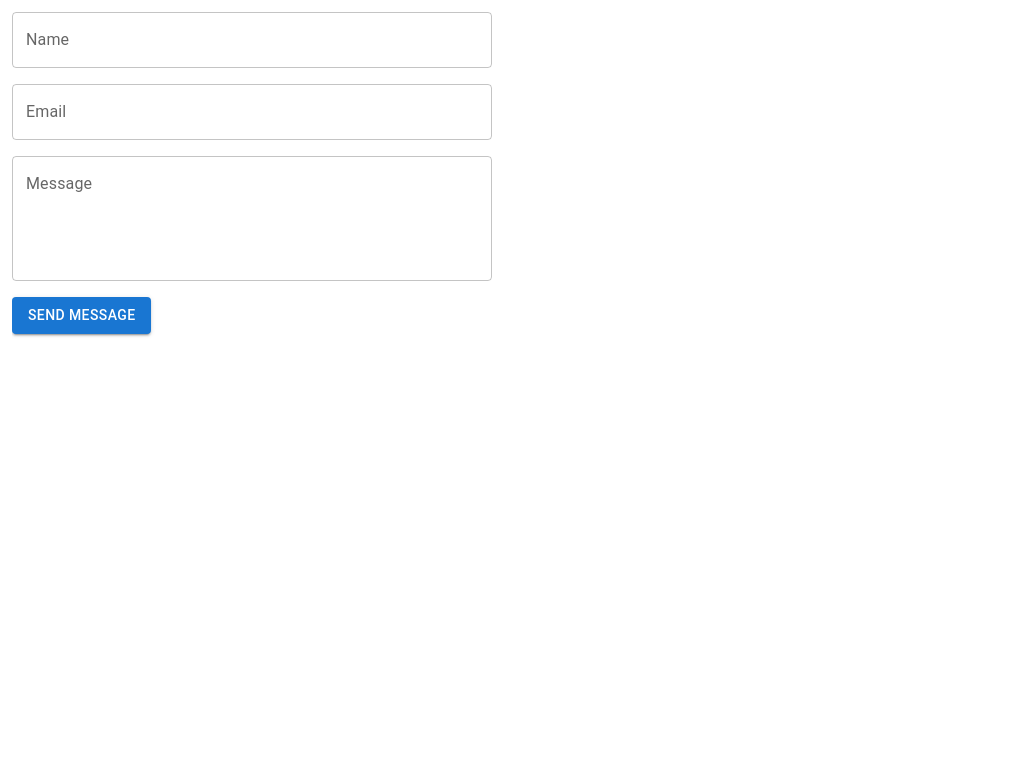
Scenario: shows an error message and preserves field values when the request fails
The image size is (1036, 780).
Type "Ada Lovelace" into the field labelled "Name" at (252,40), box [12,12,492,68]
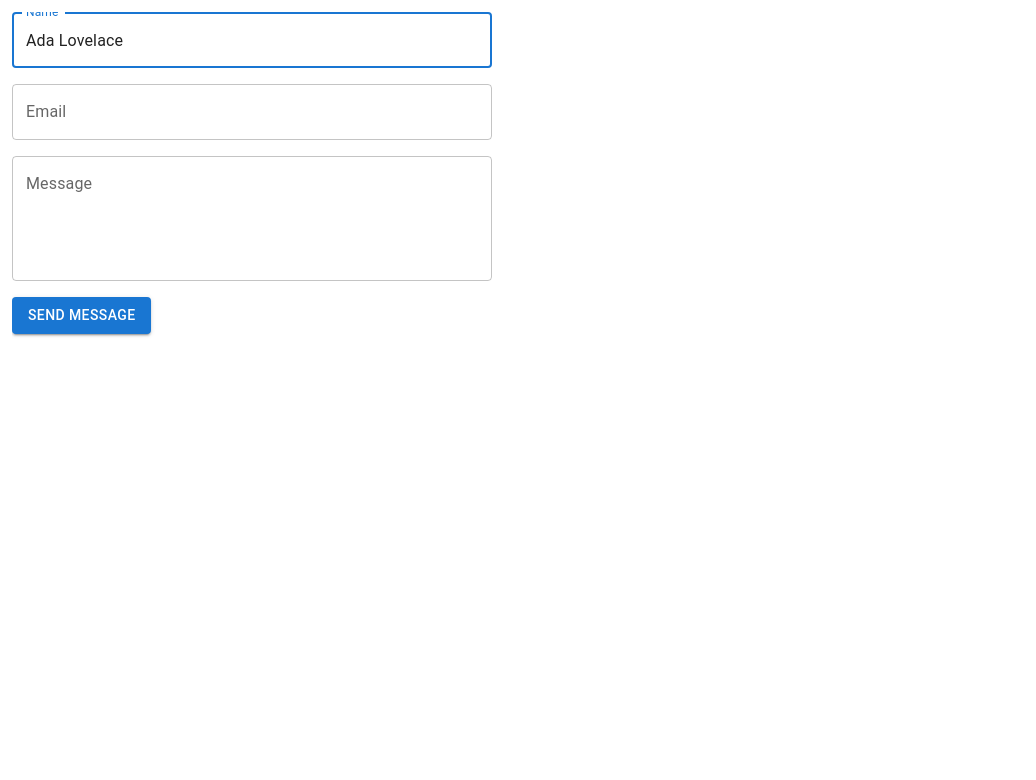
Type "ada@example.com" into the field labelled "Email" at (252,112), box [12,84,492,140]
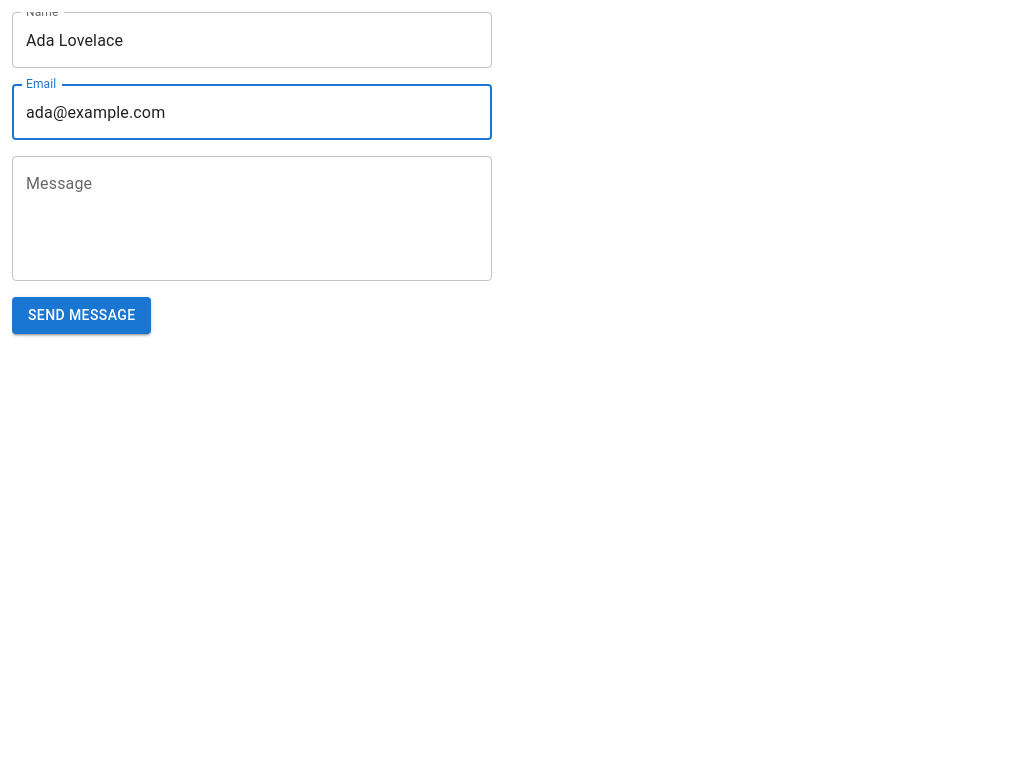
Type "Let's build something." into the text box labelled "Message" at (252,218), box [26,172,478,264]
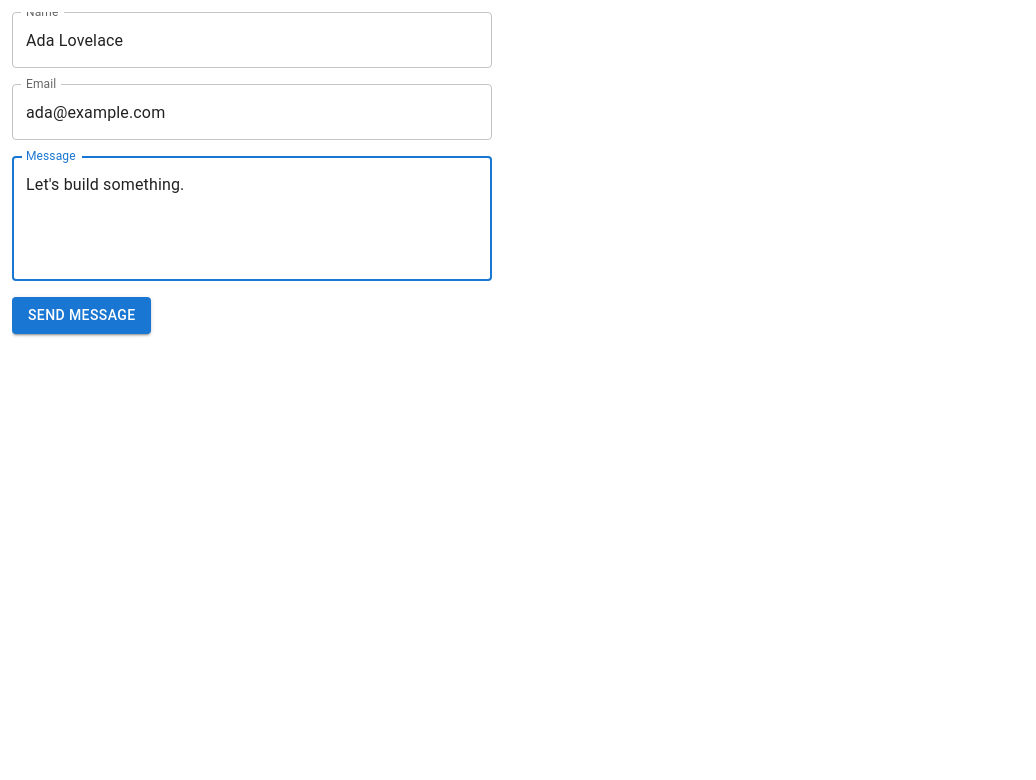
Click the button "Send message" at (82,315), box [12,297,152,334]
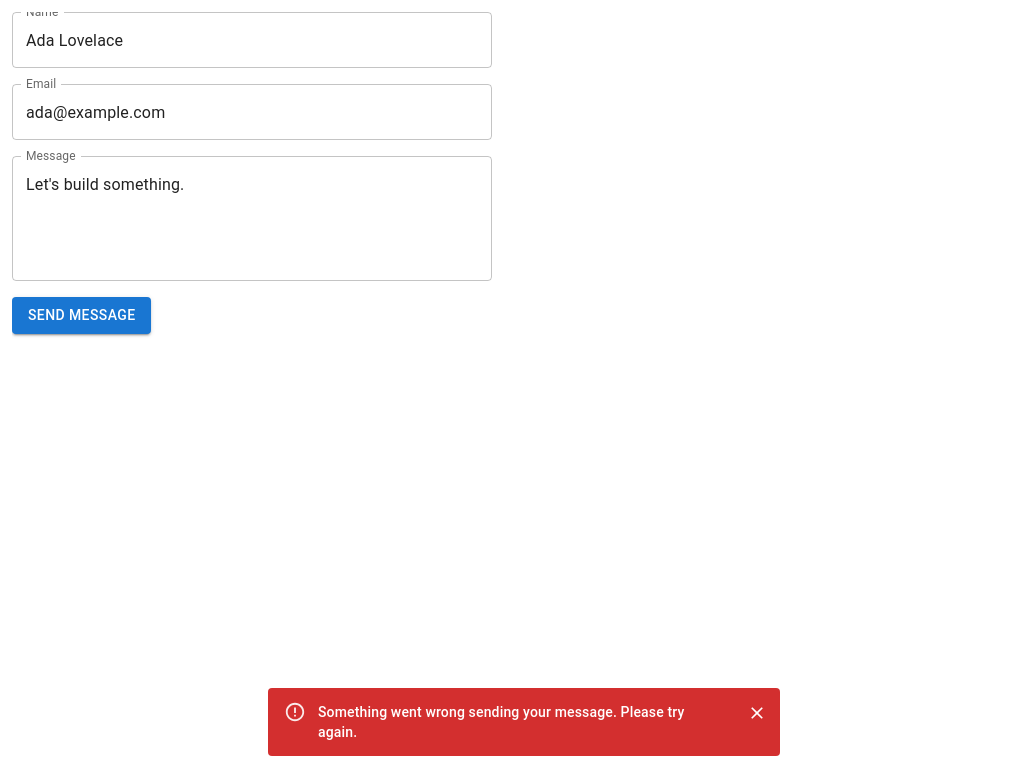
Expected: the text "Something went wrong sending your message. Please try again." is shown, [318,694,726,750]
